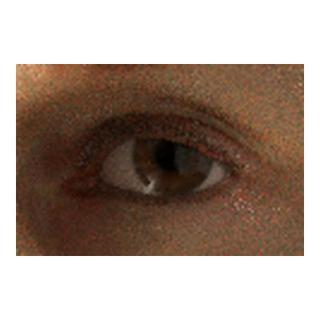pupil: (157, 138, 189, 170)
